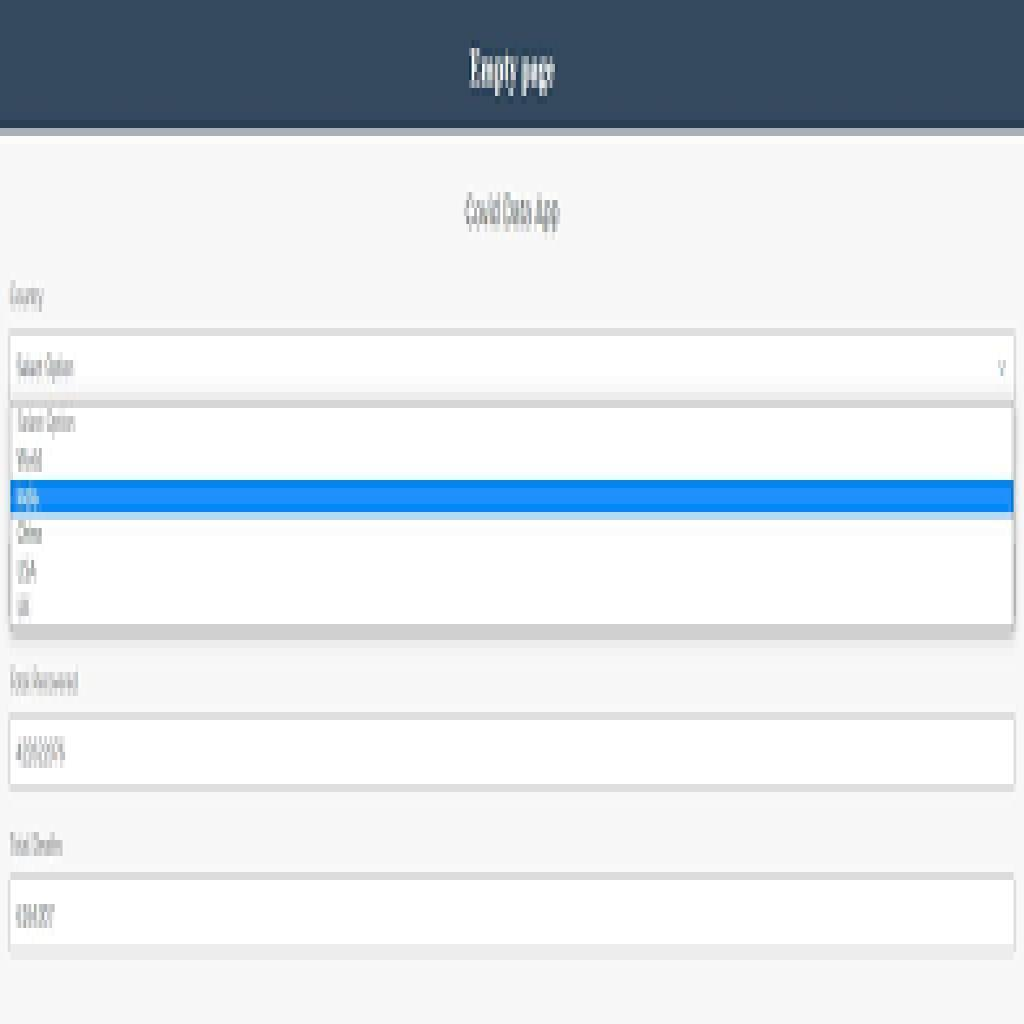dropdown: (12, 329, 1018, 404)
input: (8, 872, 1016, 961), (7, 712, 1020, 794)
